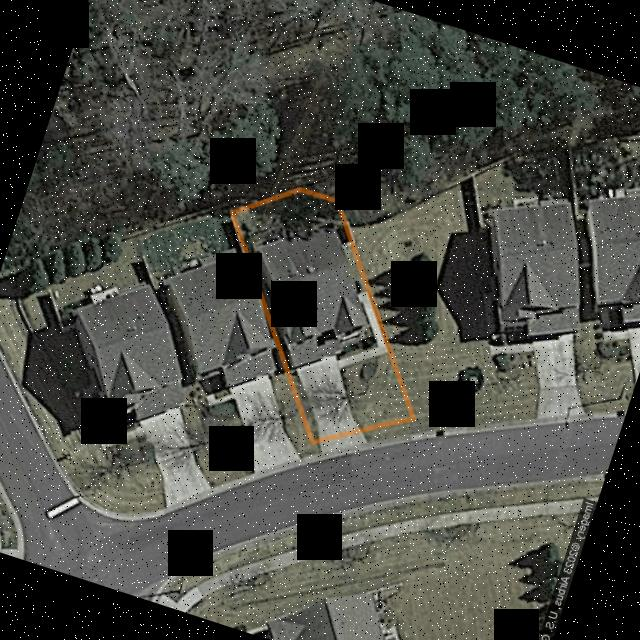Driveway: (295, 291, 386, 437)
Extra Driveway: (321, 434, 365, 452)
Extra Lawn: (362, 421, 419, 442), (311, 444, 321, 453)
Extra Sidewalk: (312, 433, 422, 462)
House: (253, 221, 367, 366)
